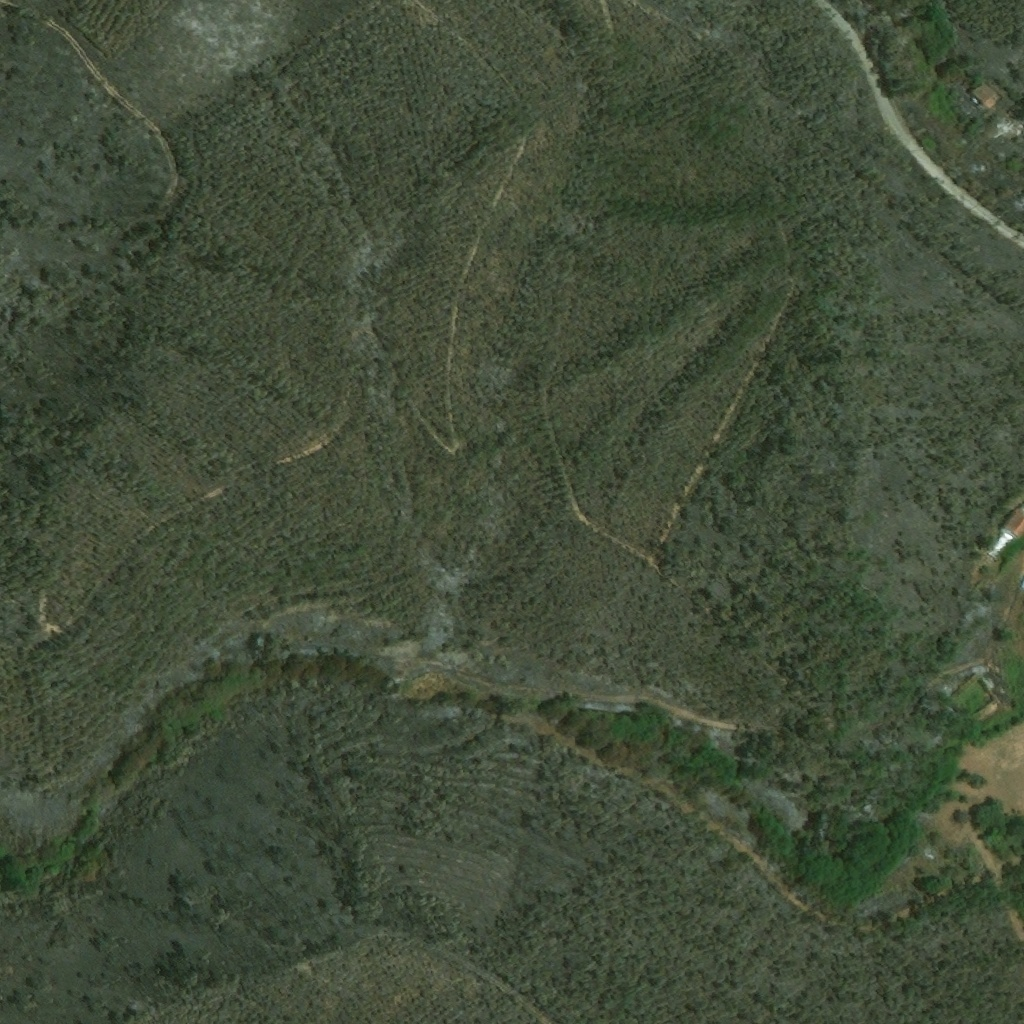0 no-damage: (988, 500, 1023, 562), (970, 84, 997, 110)
3 destroyed: (996, 114, 1020, 138)
